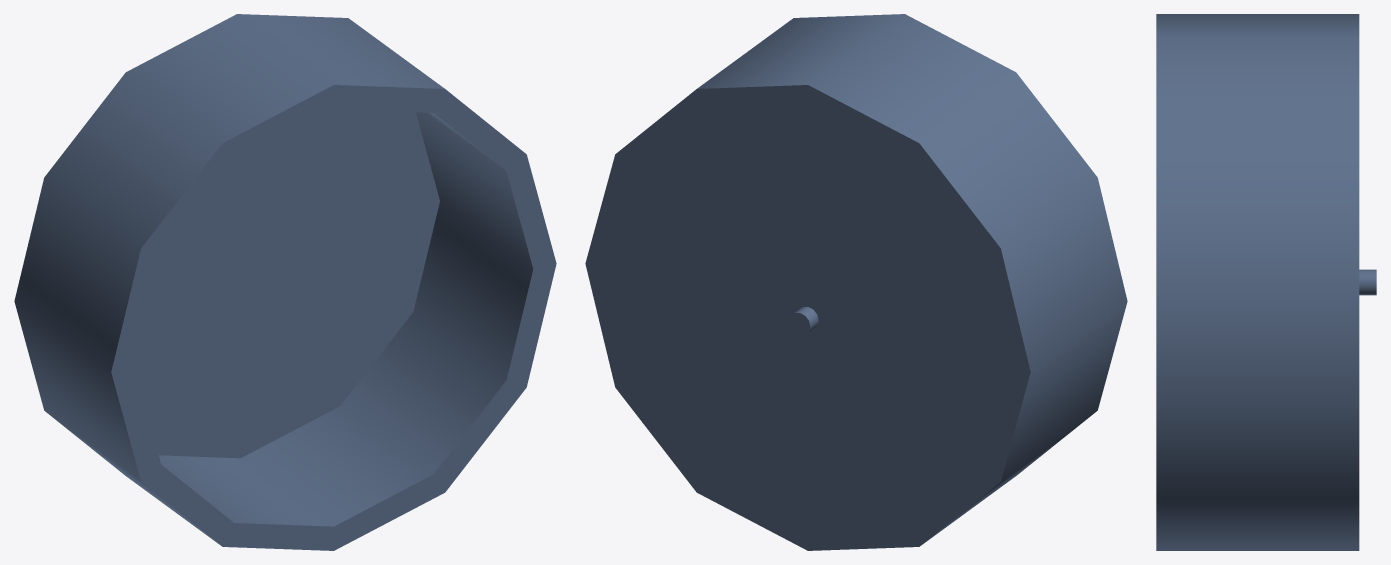
File: hamster_wheel.fbx
3 views of the same model, side by side, from view 1: azimuth 30°, elevation 25°; view 2: azimuth 150°, elevation 25°; view 3: azimuth 270°, elevation 25° (orthographic). The views are drawn at different scales.
Visible parts, largest first — view 1: wheel; view 2: wheel; view 3: wheel.
Part boxes in pixels (x1,y1,x2,y2): wheel: (14,14,556,550); wheel: (585,14,1127,550); wheel: (1156,14,1376,550).
Size of the model in its own units: 15.6 by 38.15 by 38.15.
